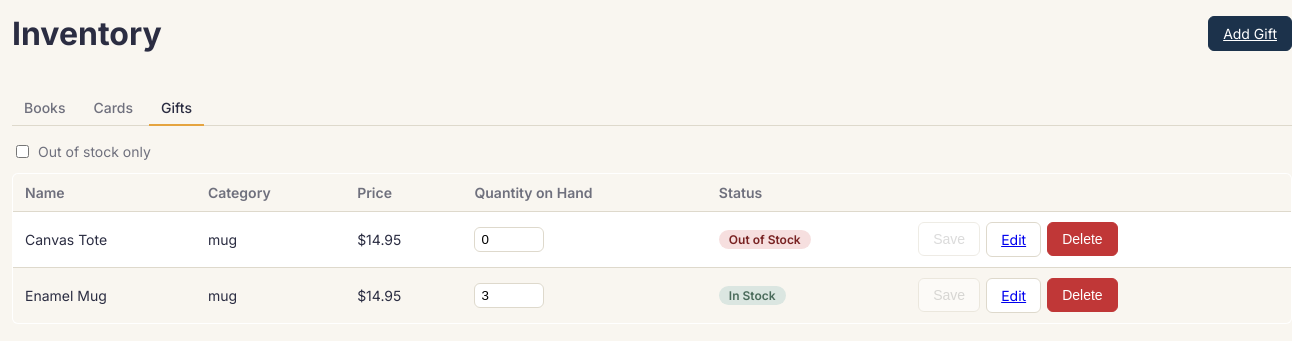
Scenario: GiftsInventoryPage › filters to out-of-stock only
Expected: the text "Enamel Mug" is shown, x1=12 y1=267 x2=196 y2=323
Click the checkbox labelled "Out of stock only".
click(22, 151)  # box x1=16 y1=145 x2=29 y2=158
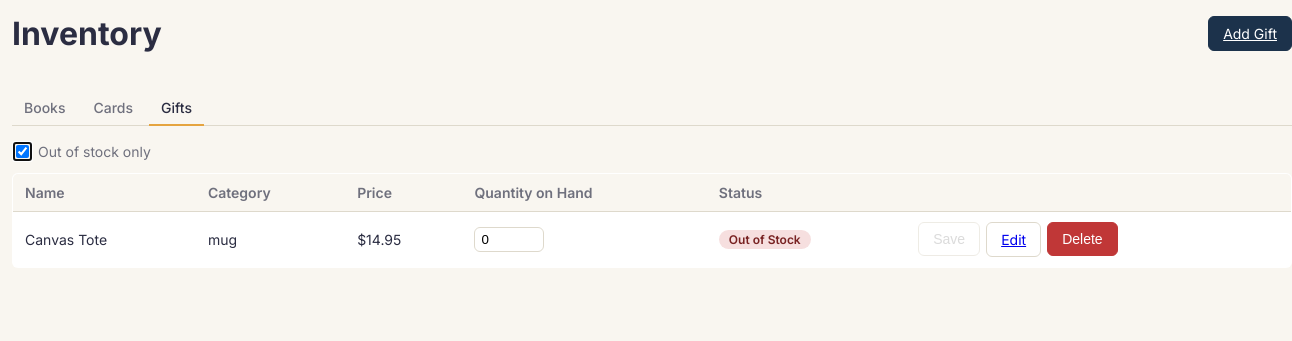
Expected: the text "Canvas Tote" is shown, x1=12 y1=211 x2=196 y2=267
Now the text "Enamel Mug" is gone
